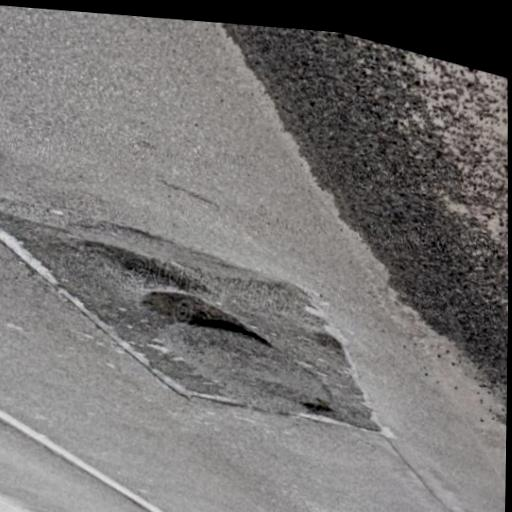pothole: (141, 266, 272, 347), (117, 253, 142, 268)
